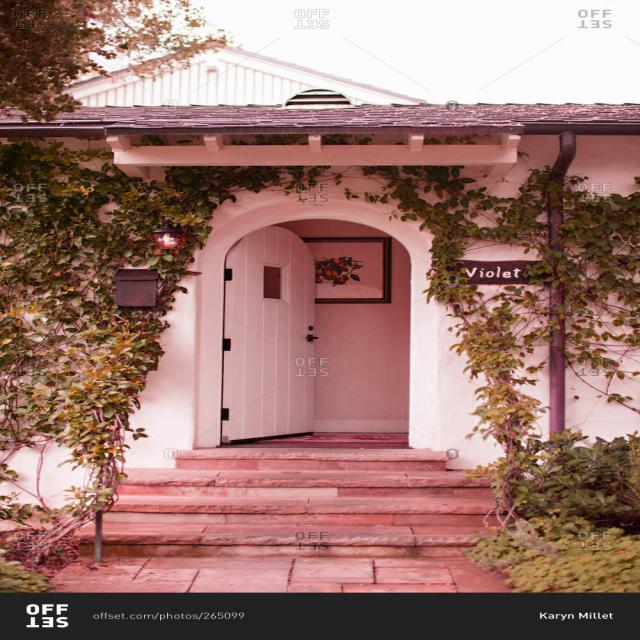door: (194, 196, 444, 462)
